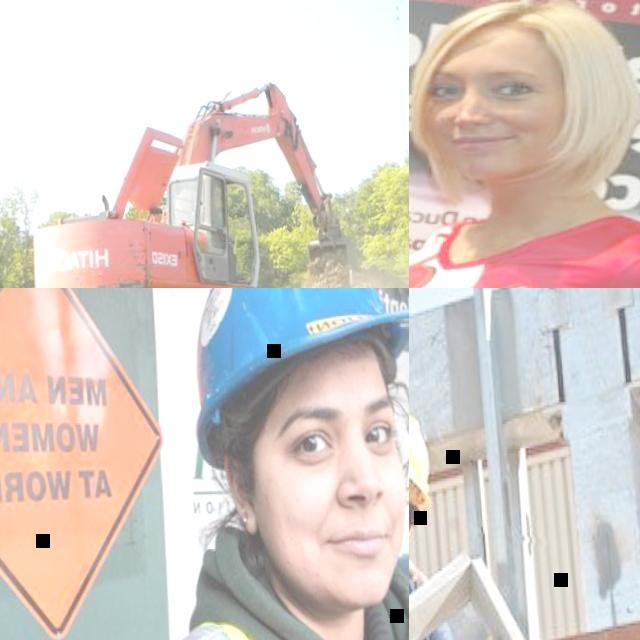Hardhat: (179, 288, 409, 470), (409, 405, 437, 505)
NO-Hardhat: (417, 0, 621, 65)
NO-Mask: (262, 502, 405, 612), (433, 93, 581, 179)
NO-Safety Vest: (409, 196, 640, 288)
Person: (65, 288, 409, 640), (409, 0, 640, 288), (409, 401, 527, 640), (209, 203, 244, 285)
machinery: (23, 73, 362, 288)
